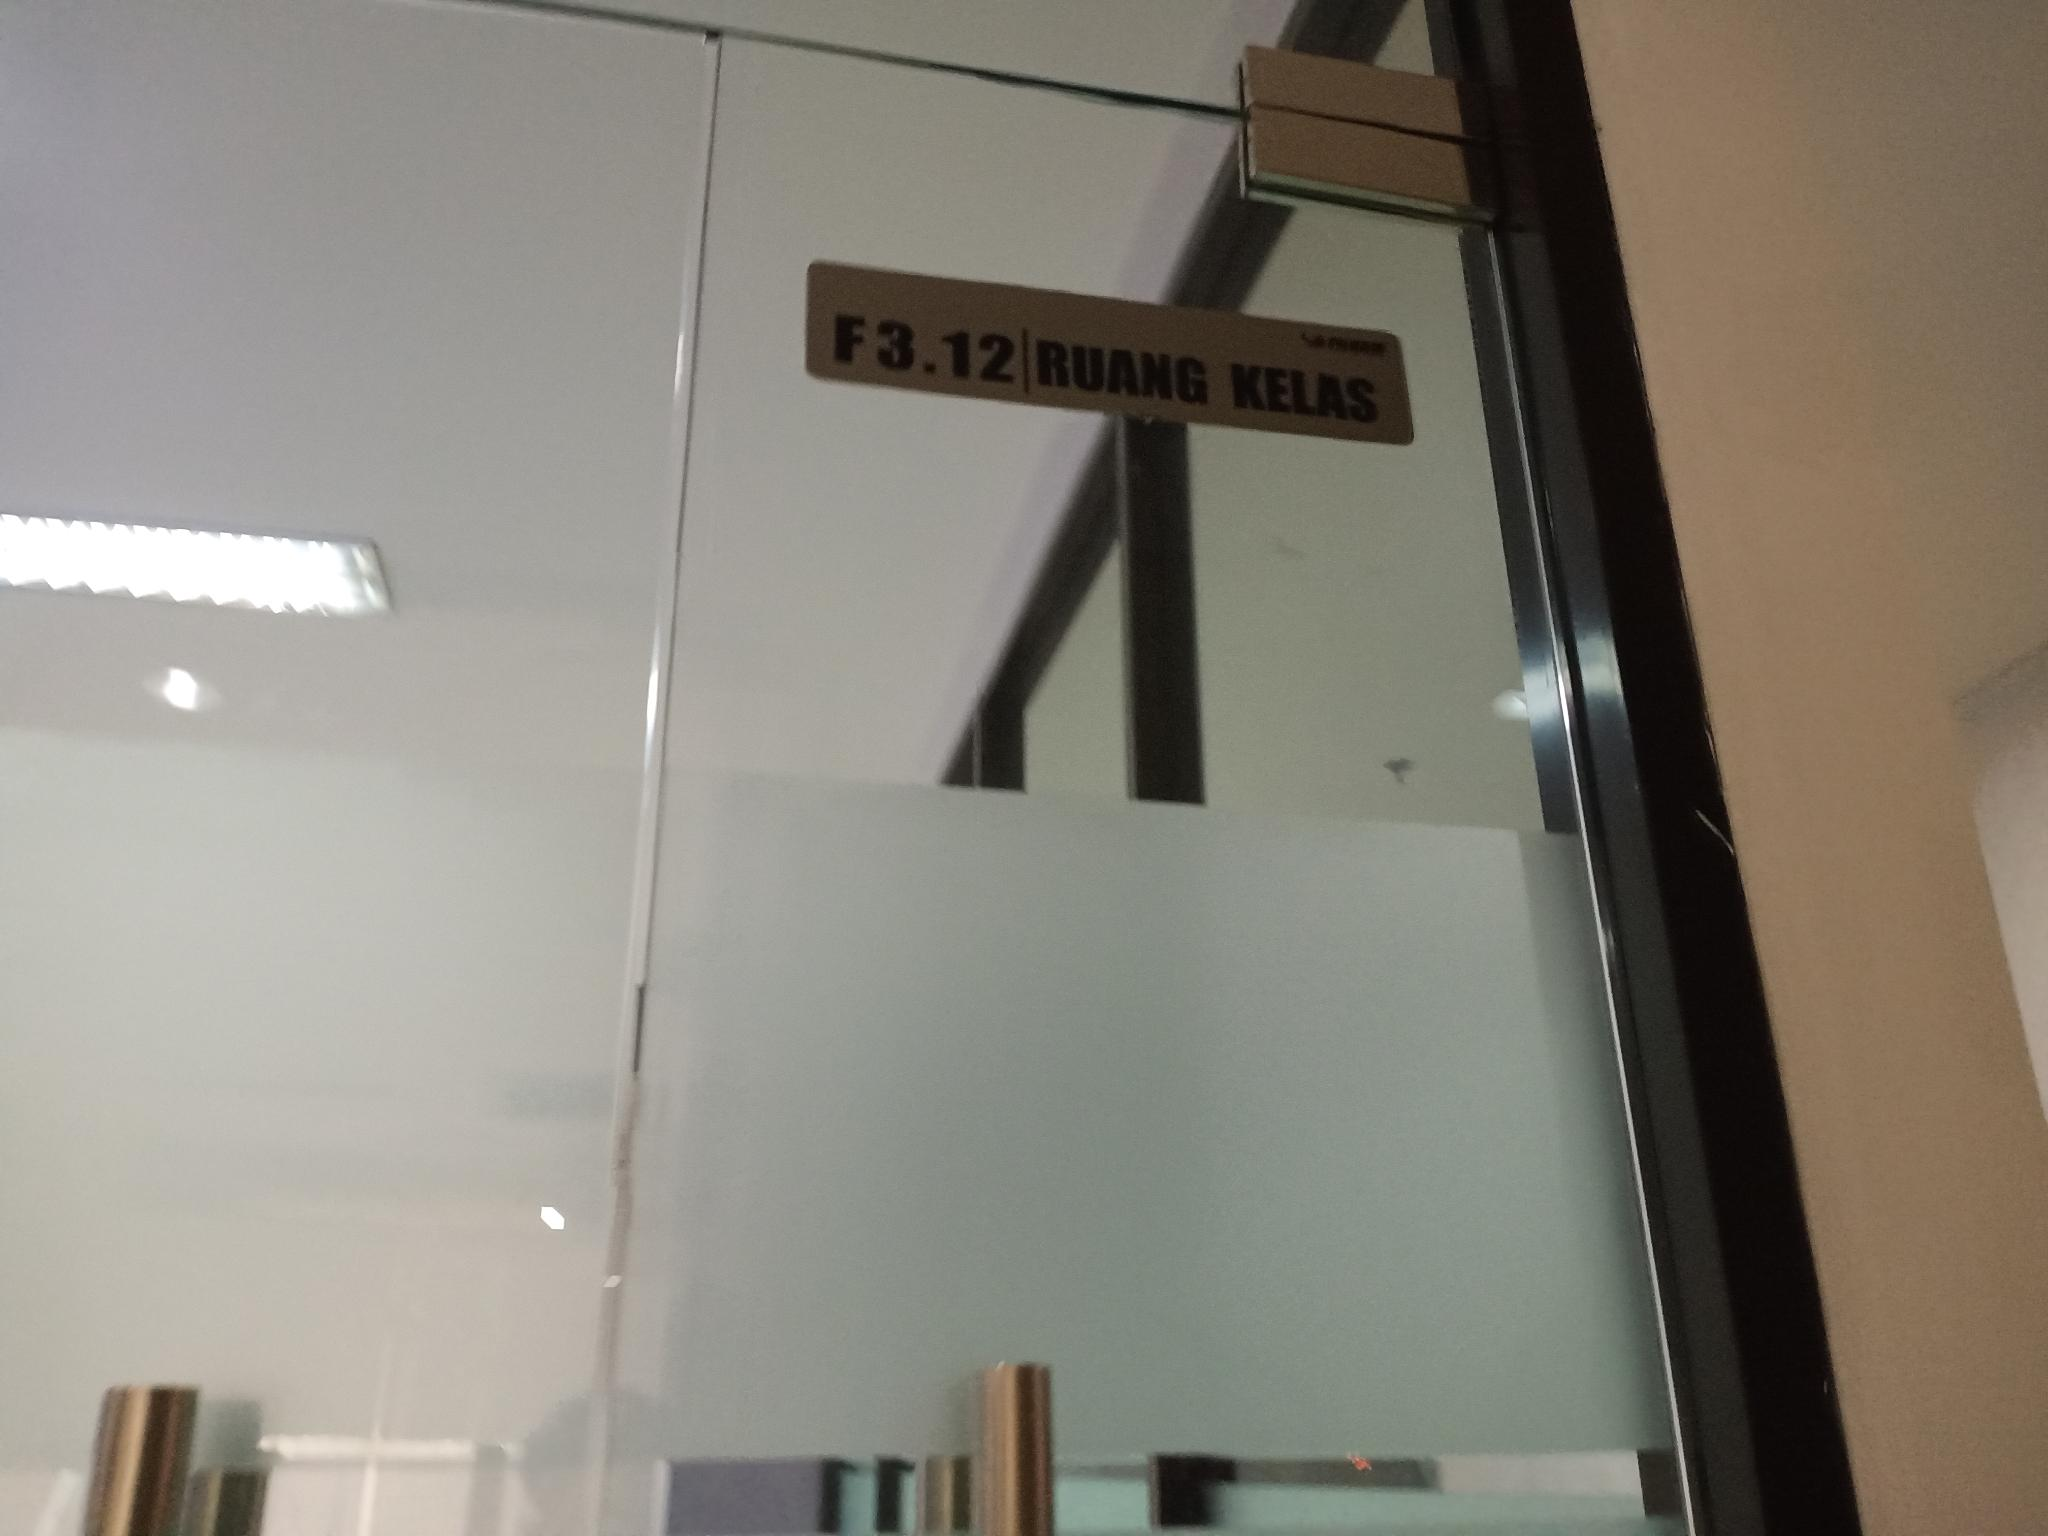plate: (806, 258, 1414, 449)
